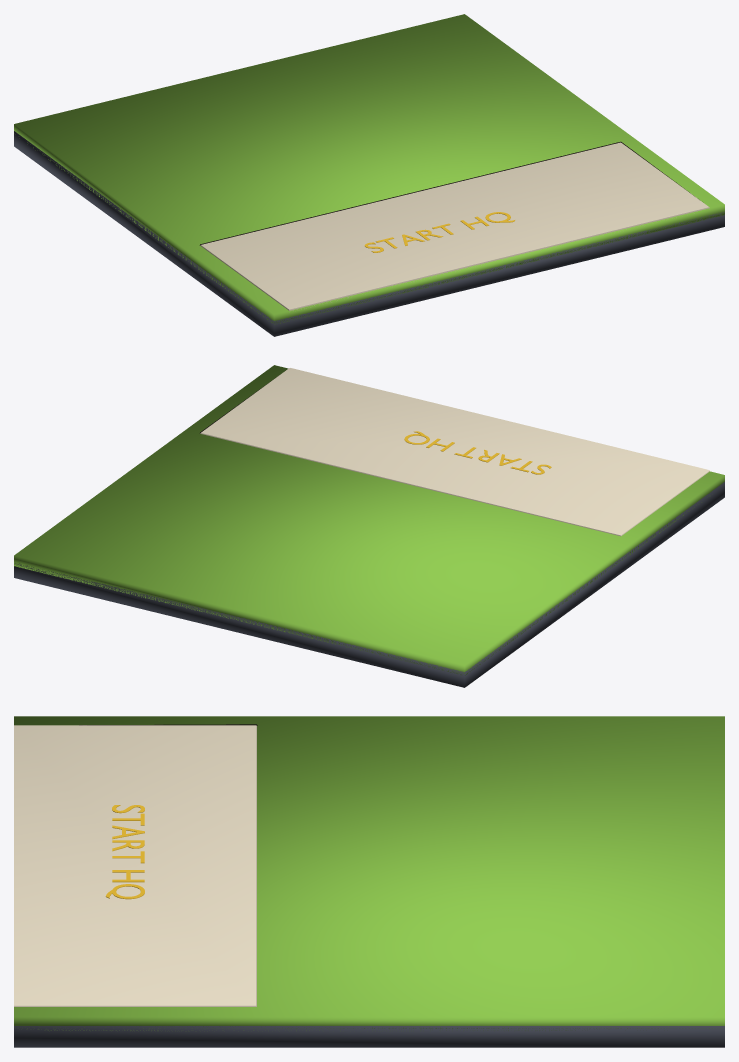
Rendered from Lot_HQ.fbx.
3 renders of one model, top to bottom at view 1: azimuth 30°, elevation 25°; view 2: azimuth 150°, elevation 25°; view 3: azimuth 270°, elevation 25°, orthographic. The views are drawn at different scales.
Parts seen in each view (by area): view 1: Tile_Lot_HQ_Grass, Tile_Lot_HQ_Sidewalk, Tile_Lot_HQ_Asphalt, Tile_Lot_HQ_LineYellow, Tile_Lot_HQ_Outline; view 2: Tile_Lot_HQ_Grass, Tile_Lot_HQ_Sidewalk, Tile_Lot_HQ_Asphalt, Tile_Lot_HQ_LineYellow; view 3: Tile_Lot_HQ_Grass, Tile_Lot_HQ_Sidewalk, Tile_Lot_HQ_Asphalt, Tile_Lot_HQ_LineYellow.
Boxes of the visible parts, box(x1,y1,x2,y2) form: Tile_Lot_HQ_Grass: box(14, 14, 724, 324); Tile_Lot_HQ_Sidewalk: box(200, 142, 709, 310); Tile_Lot_HQ_Asphalt: box(14, 131, 724, 336); Tile_Lot_HQ_LineYellow: box(364, 212, 514, 252); Tile_Lot_HQ_Outline: box(199, 141, 694, 245); Tile_Lot_HQ_Grass: box(14, 365, 724, 675); Tile_Lot_HQ_Sidewalk: box(200, 368, 709, 536); Tile_Lot_HQ_Asphalt: box(14, 482, 724, 687); Tile_Lot_HQ_LineYellow: box(404, 431, 551, 474); Tile_Lot_HQ_Grass: box(14, 716, 724, 1030); Tile_Lot_HQ_Sidewalk: box(14, 725, 256, 1006); Tile_Lot_HQ_Asphalt: box(14, 1026, 724, 1047); Tile_Lot_HQ_LineYellow: box(105, 805, 144, 899).
Bounding box in the file's own units: 24 × 1.24 × 24.
